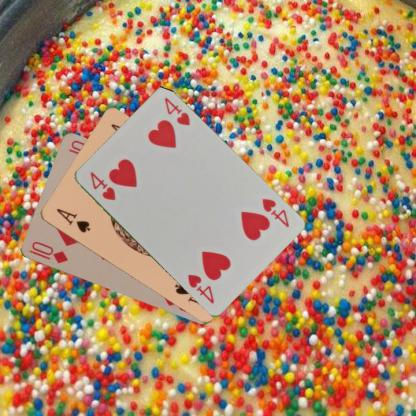10d: (25, 239, 69, 265)
4h: (259, 195, 290, 229), (87, 168, 117, 202)
As: (53, 206, 92, 234)
